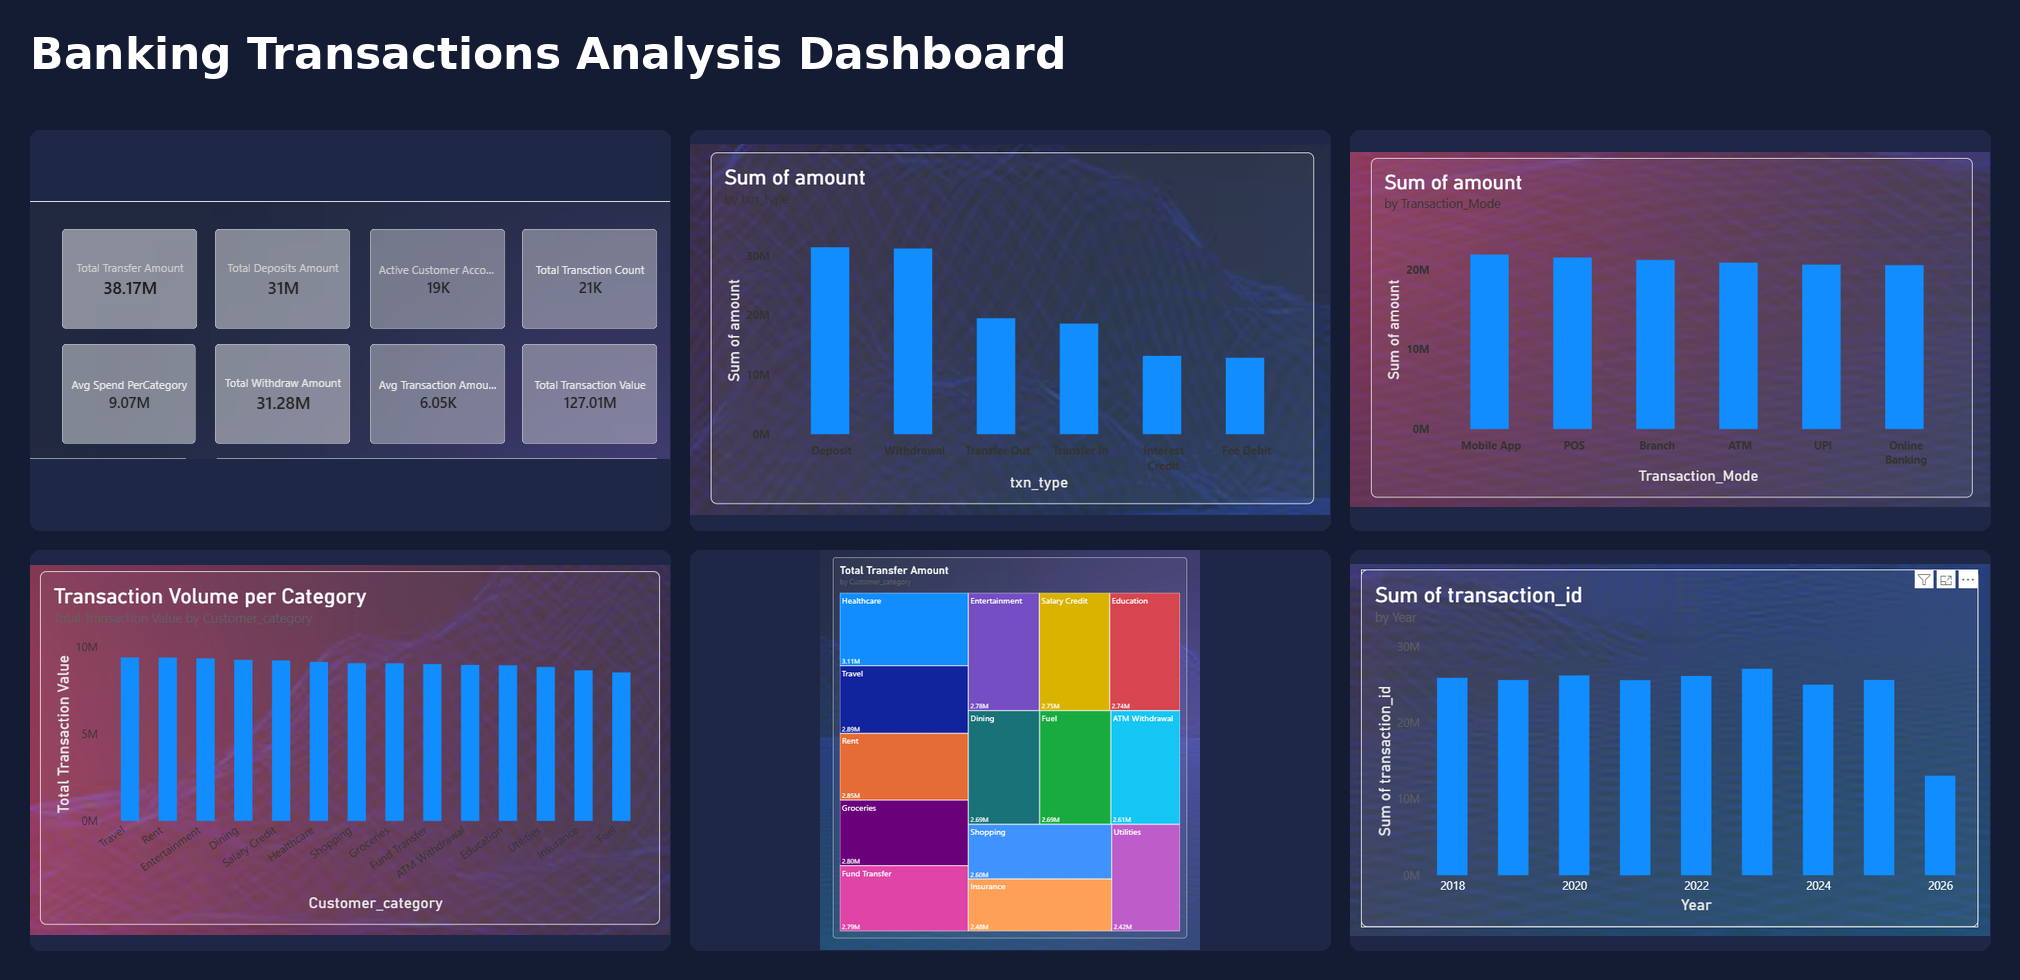

The dashboard page shown, as its layout file describes it:
{"tool":"powerbi","page":{"name":"final_dashboard","canvas":[2560,1440],"ordinal":0},"visuals":[{"type":"textbox","box":[34,42.5,1247.2,326],"z":0},{"type":"cardVisual","fields":{"Data":["Sheet1.Total_Transaction_Value"]},"box":[2259.2,272.1,260.8,192.8],"z":1},{"type":"cardVisual","fields":{"Data":["Sheet1.Active_Customer_Accounts"]},"box":[1967.2,51,260.8,192.8],"z":2},{"type":"cardVisual","fields":{"Data":["Sheet1.Total_Transction_Count"]},"box":[2259.2,51,260.8,192.8],"z":3},{"type":"cardVisual","fields":{"Data":["Sheet1.Average_Transaction_Amount"]},"box":[1967.2,272.1,260.8,192.8],"z":4},{"type":"clusteredColumnChart","fields":{"Category":["Sheet1.Transaction_Mode"],"Y":["Sum(Sheet1.amount)"]},"box":[34.7,969.4,773.5,436.7],"z":6},{"type":"lineStackedColumnComboChart","fields":{"Category":["Sheet1.txn_type"],"Y":["Sum(Sheet1.amount)"]},"box":[858.9,493.2,756.9,442.2],"z":7},{"type":"columnChart","fields":{"Category":["Sheet1.txn_date.Variation.Date Hierarchy.Year"],"Y":["Sum(Sheet1.transaction_id)"]},"box":[858.9,969.4,756.9,439.4],"z":8},{"type":"clusteredColumnChart","title":"Transaction Volume per Category","fields":{"Category":["Sheet1.Customer_category"],"Y":["Sheet1.Total_Transaction_Value"]},"box":[34,493.2,773.9,442.2],"z":9},{"type":"treemap","fields":{"Group":["Sheet1.Customer_category"],"Values":["Sheet1.Total_Transfer_Amount"]},"box":[1669.6,493.2,853.2,915.6],"z":10},{"type":"cardVisual","fields":{"Data":["Sheet1.Total_Deposits"]},"box":[1669.6,51,260.8,192.8],"z":11},{"type":"cardVisual","fields":{"Data":["Sheet1.Total_Withdrawal_Amount"]},"box":[1669.6,272.1,260.8,192.8],"z":12},{"type":"cardVisual","fields":{"Data":["Sheet1.Total_Transfer_Amount"]},"box":[1374.8,51,260.8,192.8],"z":13},{"type":"cardVisual","fields":{"Data":["Sheet1.Avg_Spend_Per_Category"]},"box":[1374.8,272.1,258,192.8],"z":14}]}

Visuals, with their boxes on the page's 2560x1440 design canvas (x1, y1, x2, y2). These are canvas units, not pixel positions in the 2020x980 screenshot, which may show the page scaled, cropped or inside an application window:
textbox: left=34, top=42, right=1281, bottom=368
cardVisual - Sheet1.Total_Transaction_Value: left=2259, top=272, right=2520, bottom=465
cardVisual - Sheet1.Active_Customer_Accounts: left=1967, top=51, right=2228, bottom=244
cardVisual - Sheet1.Total_Transction_Count: left=2259, top=51, right=2520, bottom=244
cardVisual - Sheet1.Average_Transaction_Amount: left=1967, top=272, right=2228, bottom=465
clusteredColumnChart - Sheet1.Transaction_Mode x Sum(Sheet1.amount): left=35, top=969, right=808, bottom=1406
lineStackedColumnComboChart - Sheet1.txn_type x Sum(Sheet1.amount): left=859, top=493, right=1616, bottom=935
columnChart - Sheet1.txn_date.Variation.Date Hierarchy.Year x Sum(Sheet1.transaction_id): left=859, top=969, right=1616, bottom=1409
"Transaction Volume per Category" clusteredColumnChart: left=34, top=493, right=808, bottom=935
treemap - Sheet1.Customer_category x Sheet1.Total_Transfer_Amount: left=1670, top=493, right=2523, bottom=1409
cardVisual - Sheet1.Total_Deposits: left=1670, top=51, right=1930, bottom=244
cardVisual - Sheet1.Total_Withdrawal_Amount: left=1670, top=272, right=1930, bottom=465
cardVisual - Sheet1.Total_Transfer_Amount: left=1375, top=51, right=1636, bottom=244
cardVisual - Sheet1.Avg_Spend_Per_Category: left=1375, top=272, right=1633, bottom=465
